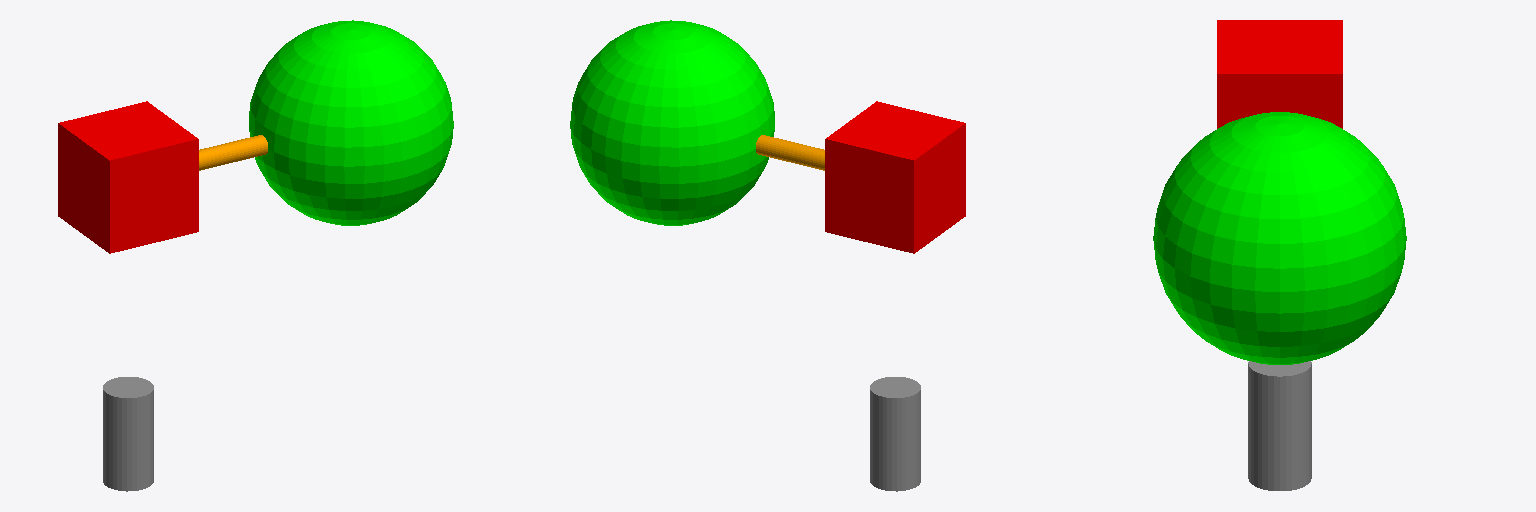
robot.urdf — TestRobot:
<?xml version="1.0"?>

<robot name="TestRobot">
  
  <!-- *************************************************** -->
  <!-- ***************** Kinematic Chain ***************** -->
  <!-- *************************************************** -->
  <!-- <link name="..."> is really a frame!                -->
  <!-- <joint name="..." type="fixed">      is a fixed shift.    -->
  <!-- <joint name="..." type="continuous"> is a revolute joint. -->
  <!-- <joint name="..." type="prismatic">  is a linear   joint. -->
  <!-- Note the 'origin' tag in the joints defines the shift and
       reorientation, i.e. the transform.  For moving joints, this
       happens before the continuous joint rotates around 'axis'. -->

  <link name="world">
  </link>

  <!-- Fixed shift: translation and rotation -->
  <joint name="joint0prime" type="fixed">
    <parent link="world"/>
    <child  link="frame0prime"/>
    <origin xyz="0 0 0" rpy="0 0 0"/>		<!-- No actual shift -->
  </joint>

  <link name="frame0prime">			<!-- No visuals -->
  </link>

  <!-- Pure rotation -->
  <joint name="theta1" type="continuous">
    <parent link="frame0prime"/>
    <child  link="frame1"/>
    <axis   xyz="0 0 1"/>
  </joint>

  <link name="frame1">				<!-- Frame with cylinder -->
    <visual>
      <origin xyz="0 0 0.2" rpy="0 0 0"/>	<!-- Center of cylinder -->
      <geometry>
	<cylinder length="0.2" radius="0.05"/>	<!-- Size of cylinder -->
      </geometry>
      <material name="gray"/>			<!-- Color -->
    </visual>
  </link>

  <!-- Combined shift and then moving (here prismatic) -->
  <joint name="theta2" type="prismatic">
    <parent link="frame1"/>
    <child  link="frame2"/>
    <origin xyz="0 0 0" rpy="0 0 0"/>
    <axis   xyz="0 0 1"/>
    <limit  lower="0.5" upper="1" velocity="1" effort="999"/>
  </joint>

  <link name="frame2">				<!-- Frame with box -->
    <visual>
      <origin xyz="0 0 0" rpy="0 0 0"/>		<!-- Center of box -->
      <geometry>
	<box size="0.2 0.2 0.2" />		<!-- Size of box -->
      </geometry>
      <material name="red"/>			<!-- Color -->
    </visual>
  </link>

  <!-- Fixed shift to tip -->
  <joint name="joint2prime" type="fixed">
    <parent link="frame2"/>
    <child  link="tip"/>
    <origin xyz="0.5 0 0" rpy="0 0 0"/>
  </joint>

  <link name="tip">				<!-- Frame with rod -->
    <visual>
      <origin xyz="-0.25 0 0" rpy="0 1.5708 0"/>	<!-- Center -->
      <geometry>
	<cylinder length="0.5" radius="0.02"/>		<!-- Size -->
      </geometry>
      <material name="orange"/>				<!-- Color -->
    </visual>
  </link>

  <!-- Sphere attached below... -->


  <!-- *************************************************** -->
  <!-- ****************** Named Colors ******************* -->
  <!-- *************************************************** -->

  <material name="white">    <color rgba="1.00 1.00 1.00 1"/>  </material>
  <material name="gray">     <color rgba="0.60 0.60 0.60 1"/>  </material>
  <material name="table">    <color rgba="0.85 0.77 0.77 1"/>  </material>
  <material name="black">    <color rgba="0.00 0.00 0.00 1"/>  </material>

  <material name="red">      <color rgba="1.00 0.00 0.00 1"/>  </material>
  <material name="green">    <color rgba="0.00 1.00 0.00 1"/>  </material>
  <material name="blue">     <color rgba="0.00 0.00 1.00 1"/>  </material>

  <material name="cyan">     <color rgba="0.00 1.00 1.00 1"/>  </material>
  <material name="magenta">  <color rgba="1.00 0.00 1.00 1"/>  </material>
  <material name="yellow">   <color rgba="1.00 1.00 0.00 1"/>  </material>

  <material name="orange">   <color rgba="1.00 0.65 0.00 1"/>  </material>


  <!-- *************************************************** -->
  <!-- *********** Additional Visual Elements ************ -->
  <!-- *************************************************** -->

  <!-- THESE ARE EXAMPLES... PLAY AS YOU LIKE -->

  <!-- *** Attach a sphere to the tip *** -->

  <joint name="attach-sphere" type="fixed">
    <parent link="tip"/>
    <child  link="sphere"/>
  </joint>
  <link name="sphere">				<!-- Frame with sphere -->
    <visual>
      <origin xyz="0 0 0" rpy="0 0 0"/>		<!-- Center of sphere -->
      <geometry>
	<sphere radius="0.2" />			<!-- Size of sphere -->
      </geometry>
      <material name="green"/>			<!-- Color -->
    </visual>
  </link>

</robot>

--- What the picture shows (computed from the rendered views, not written in the file) ---
3 views of the same robot in one strip: view 1: azimuth 30°, elevation 25°; view 2: azimuth 150°, elevation 25°; view 3: azimuth 270°, elevation 25° (orthographic).
Robot: TestRobot — 6 links, 5 joints (1 continuous, 1 prismatic, 3 fixed); root link world; default pose: joints at zero except 1 at the middle of their limits (theta2 = 0.75).
Links seen in each view (by area): view 1: sphere, frame2, frame1, tip; view 2: sphere, frame2, frame1, tip; view 3: sphere, frame2, frame1.
Boxes of the visible links, box(x1,y1,x2,y2) form: sphere: box(249, 20, 453, 225); frame2: box(58, 101, 198, 253); frame1: box(103, 377, 153, 491); tip: box(199, 135, 267, 170); sphere: box(570, 20, 774, 225); frame2: box(825, 101, 965, 253); frame1: box(870, 377, 920, 491); tip: box(756, 135, 824, 170); sphere: box(1153, 112, 1406, 364); frame2: box(1217, 20, 1342, 128); frame1: box(1248, 361, 1311, 490).
Bounding box of the posed robot: 0.8 × 0.4 × 0.85 m (x, y, z).
Geometry: primitives only (box / cylinder / sphere), no mesh files.